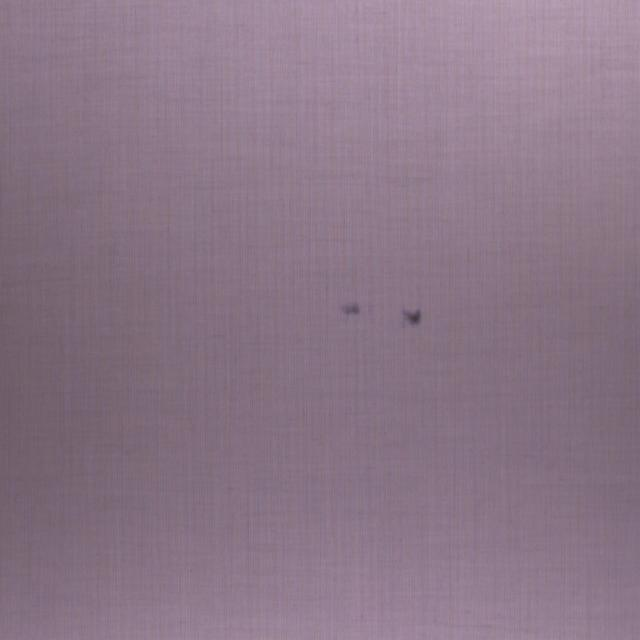dirty: (402, 307, 422, 325), (340, 303, 360, 315)
